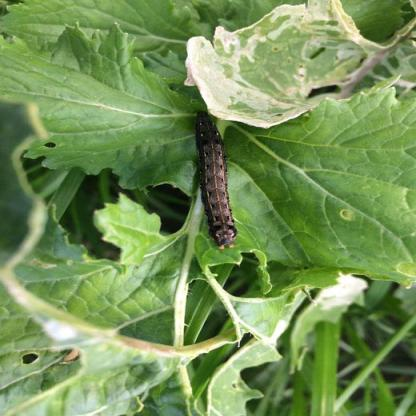armyworm: (182, 104, 246, 256)
